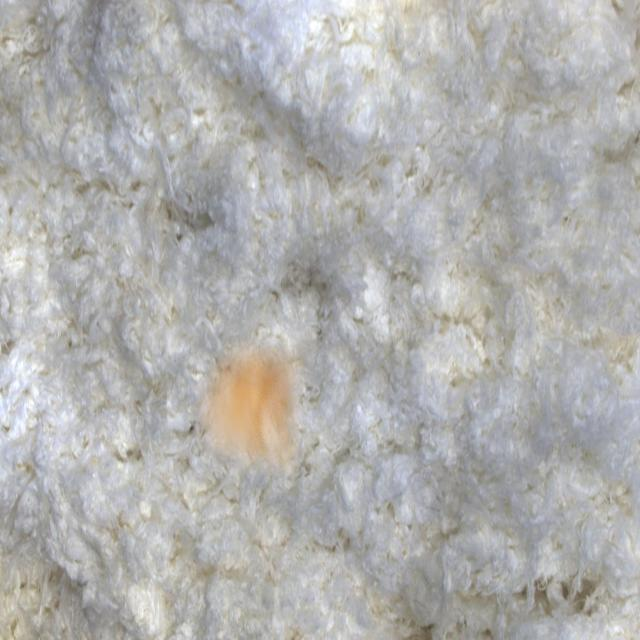dust: (196, 335, 308, 476)
